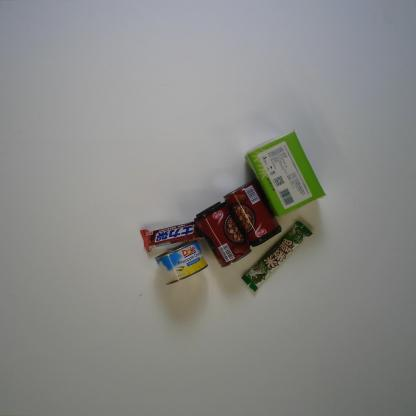Canned Food: (223, 178, 282, 247), (193, 201, 252, 268), (154, 240, 209, 286)
Chocolate: (241, 220, 313, 292), (140, 220, 208, 253)
Tissue: (244, 131, 326, 217)
